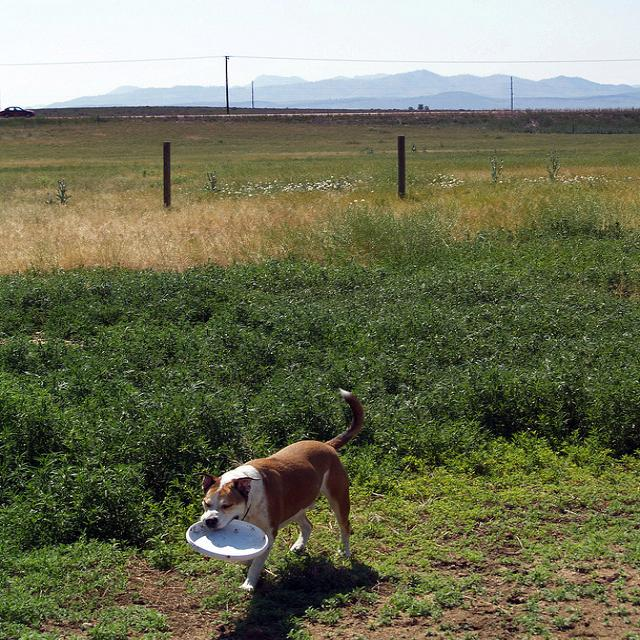Vehicle: (0, 107, 35, 118)
